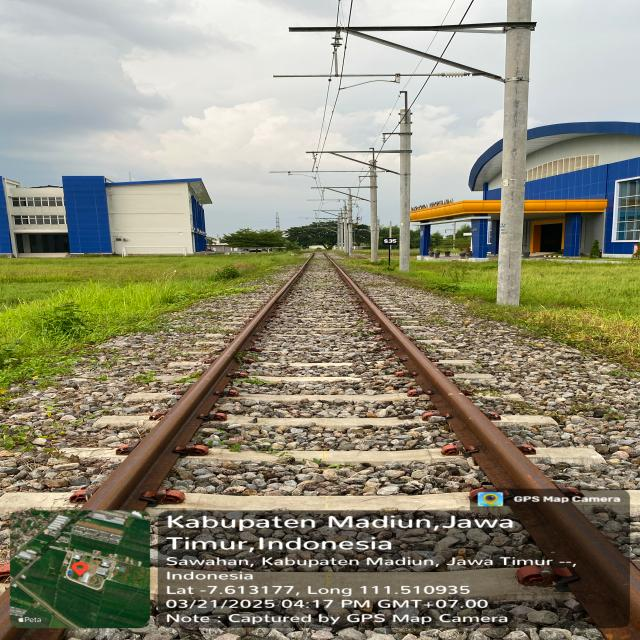rail-detection: (324, 252, 640, 640), (81, 254, 313, 510)
